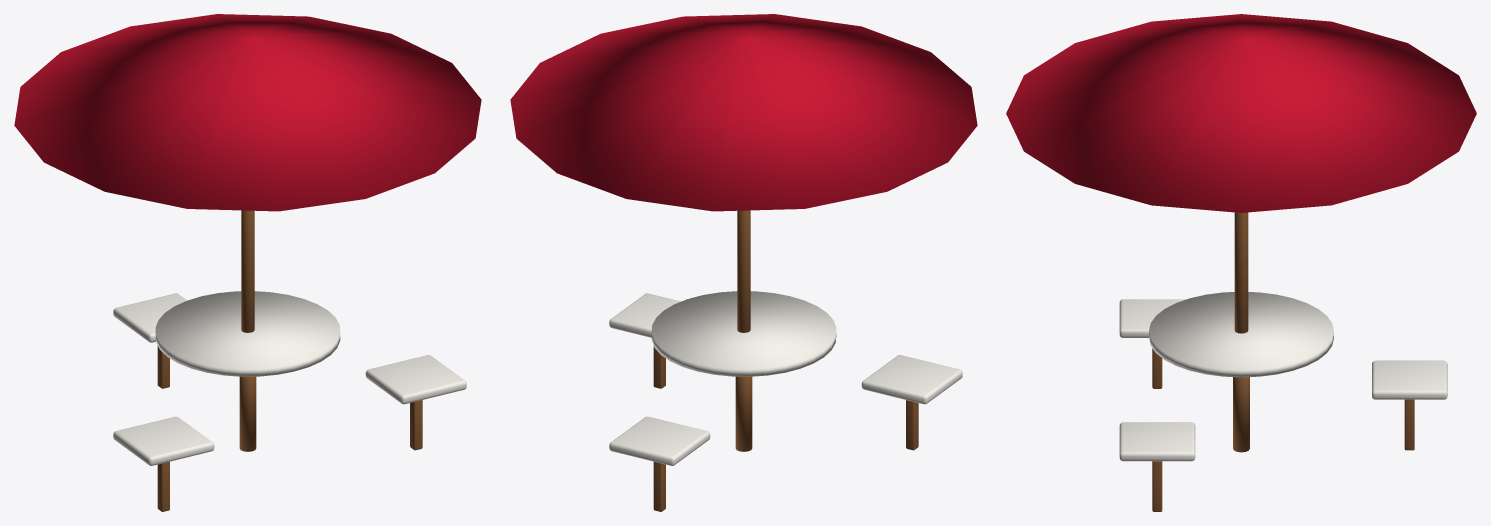
The model's file is SM_CafeUmbrella.fbx.
3 renders of one model, left to right at view 1: azimuth 30°, elevation 25°; view 2: azimuth 150°, elevation 25°; view 3: azimuth 270°, elevation 25°, orthographic.
Parts seen in each view (by area): view 1: SM_CafeUmbrella; view 2: SM_CafeUmbrella; view 3: SM_CafeUmbrella.
Boxes of the visible parts, x1,y1,x2,y2 form: SM_CafeUmbrella: (14,14,481,511); SM_CafeUmbrella: (510,14,977,511); SM_CafeUmbrella: (1006,14,1476,511).
Size of what is drawn, in the model's own units: 2.8 by 2.7 by 2.8.
1 material, 1 textured.
